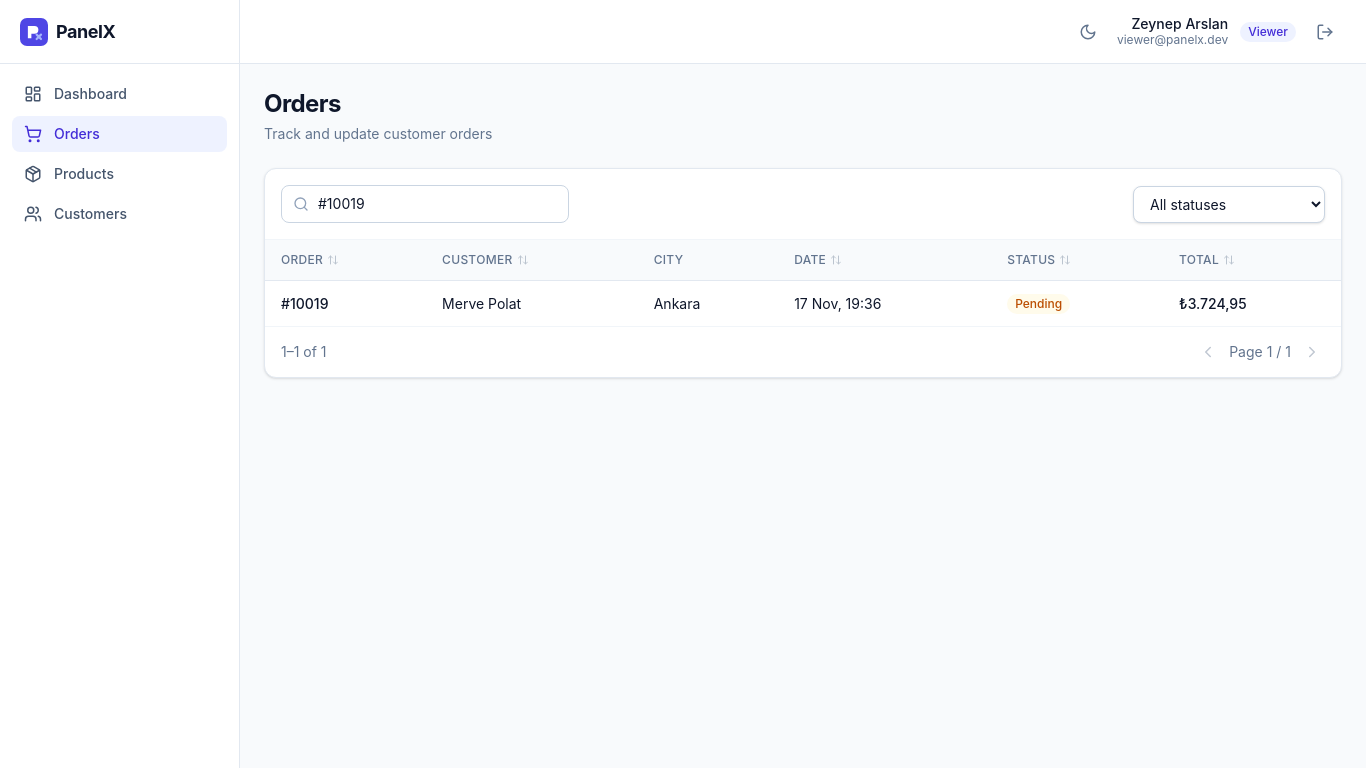
Test: orders › does not let a viewer change orders or export
Step 1. Click the text "#10019" → click(305, 303), box [281,294,328,312]
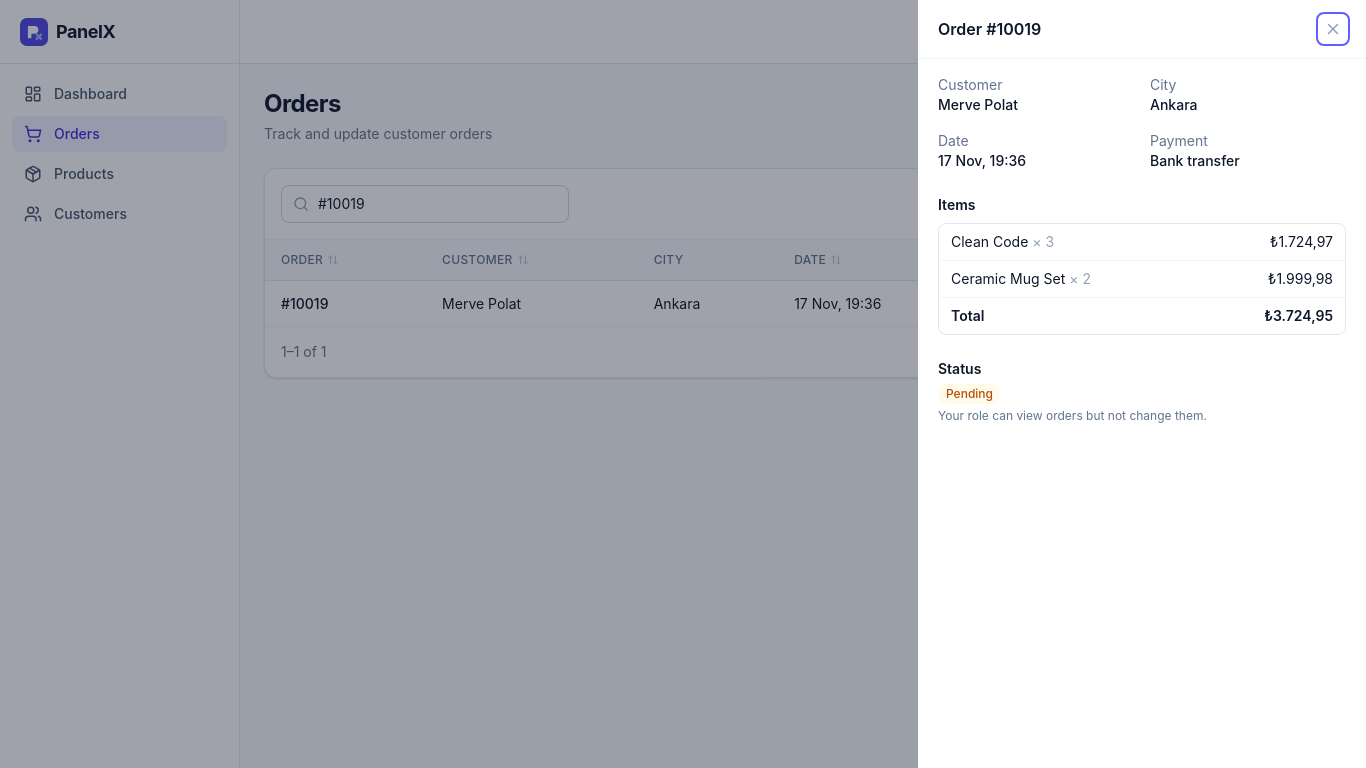
Expected: the text "Your role can view orders but not change them." is shown, [938,408,1207,423]
